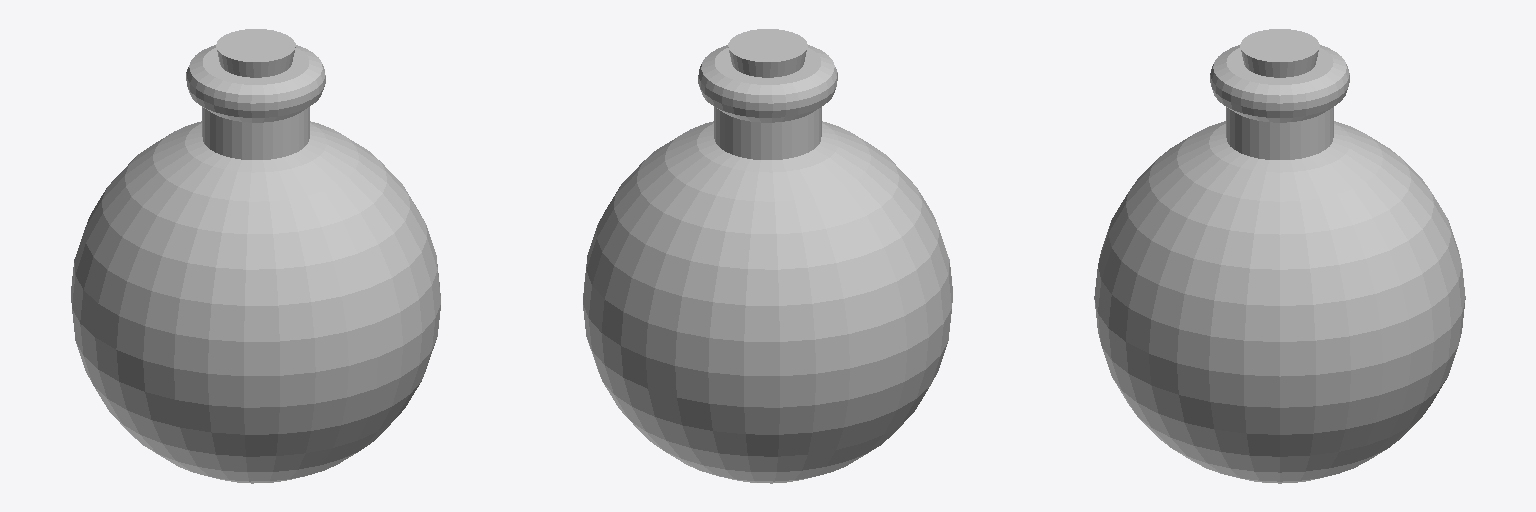
File: potion.obj
3 views of the same model, side by side, from view 1: azimuth 30°, elevation 25°; view 2: azimuth 150°, elevation 25°; view 3: azimuth 270°, elevation 25° (orthographic).
Parts seen in each view (by area): view 1: Pot; view 2: Pot; view 3: Pot.
Boxes of the visible parts, x1,y1,x2,y2 form: Pot: [71, 29, 440, 483]; Pot: [583, 29, 952, 483]; Pot: [1094, 29, 1465, 483].
Bounding box in the file's own units: 1 × 1.25 × 1.